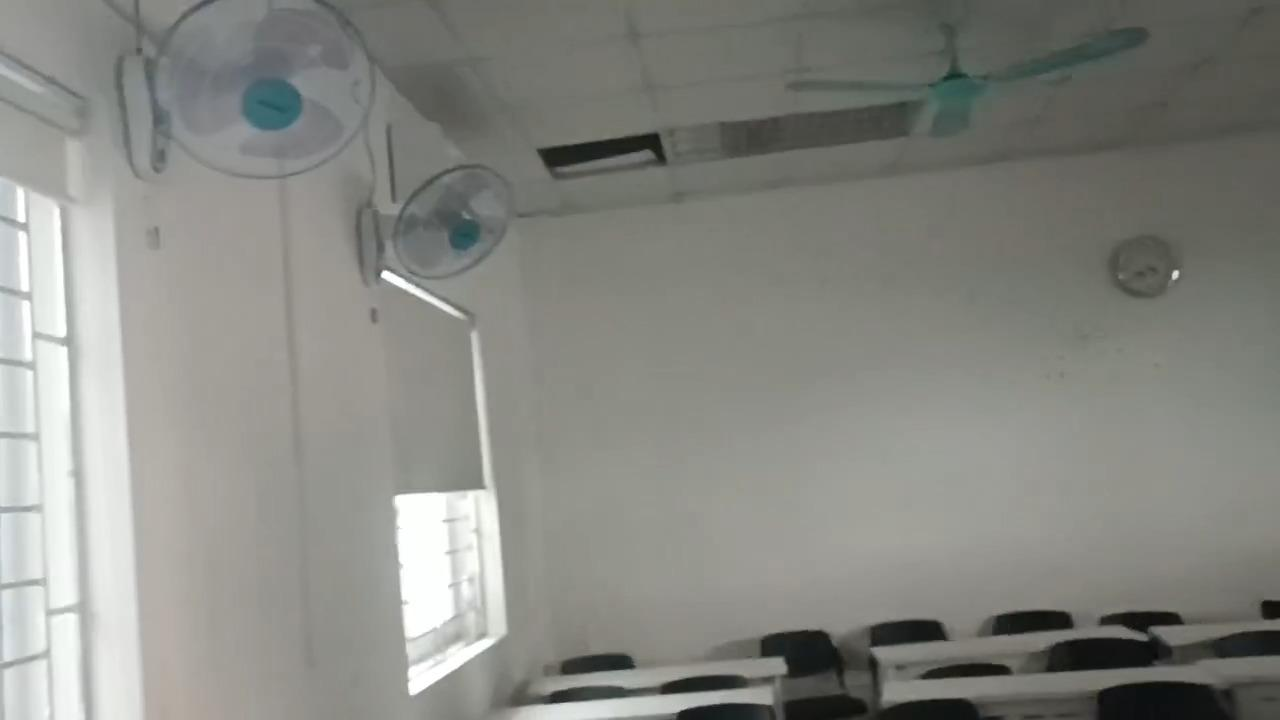chair: (763, 630, 866, 718), (1097, 681, 1236, 719), (1054, 640, 1151, 674), (992, 608, 1071, 636), (870, 619, 947, 646), (1216, 629, 1279, 659), (890, 698, 980, 719), (661, 670, 747, 691), (676, 703, 775, 719), (563, 653, 629, 675), (547, 686, 624, 702), (1099, 610, 1185, 624), (924, 662, 1007, 672), (1258, 598, 1277, 619)
clock: (1114, 234, 1175, 304)
fan: (115, 1, 377, 183), (796, 29, 1141, 140), (360, 164, 515, 286)
